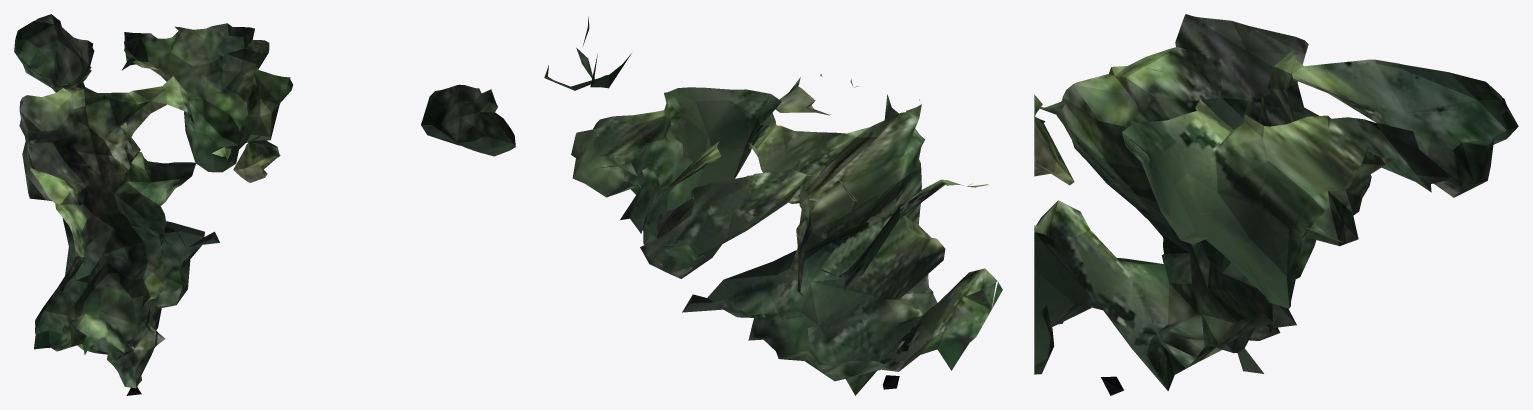
3 renders of one model, left to right at view 1: azimuth 30°, elevation 25°; view 2: azimuth 150°, elevation 25°; view 3: azimuth 270°, elevation 25°, orthographic. The views are drawn at different scales.
Size of the model in its own units: 19.77 by 11.05 by 14.83.
2 materials, 2 textured.
